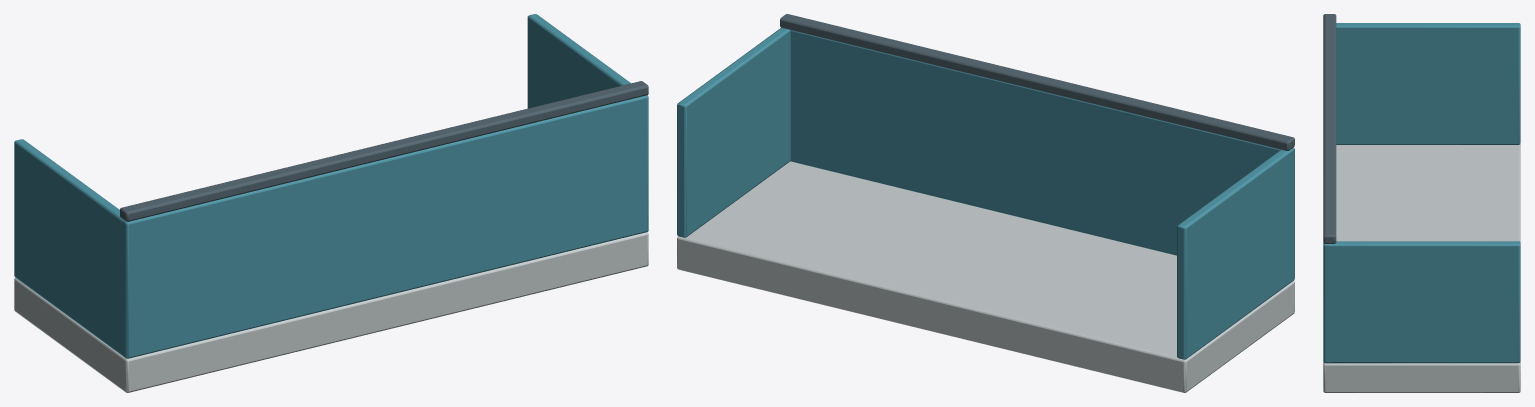
File: MOD_Balcony_01.glb
3 views of the same model, side by side, from view 1: azimuth 30°, elevation 25°; view 2: azimuth 150°, elevation 25°; view 3: azimuth 270°, elevation 25° (orthographic). The views are drawn at different scales.
Visible parts, largest first — view 1: MOD_Balcony_01; view 2: MOD_Balcony_01; view 3: MOD_Balcony_01.
Boxes of the visible parts, x1,y1,x2,y2 form: MOD_Balcony_01: (14,14,648,392); MOD_Balcony_01: (677,14,1294,392); MOD_Balcony_01: (1323,14,1520,392).
Bounding box in the file's own units: 4 × 1.33 × 1.5.
